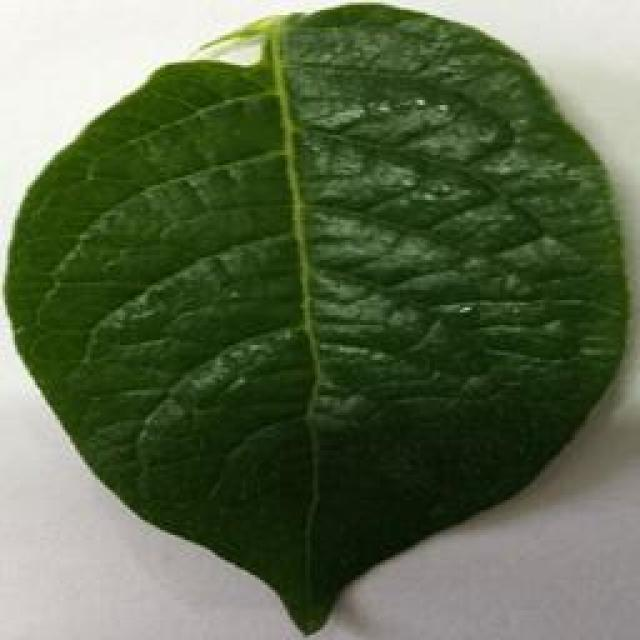Potato_Healthy: (6, 11, 633, 634)
